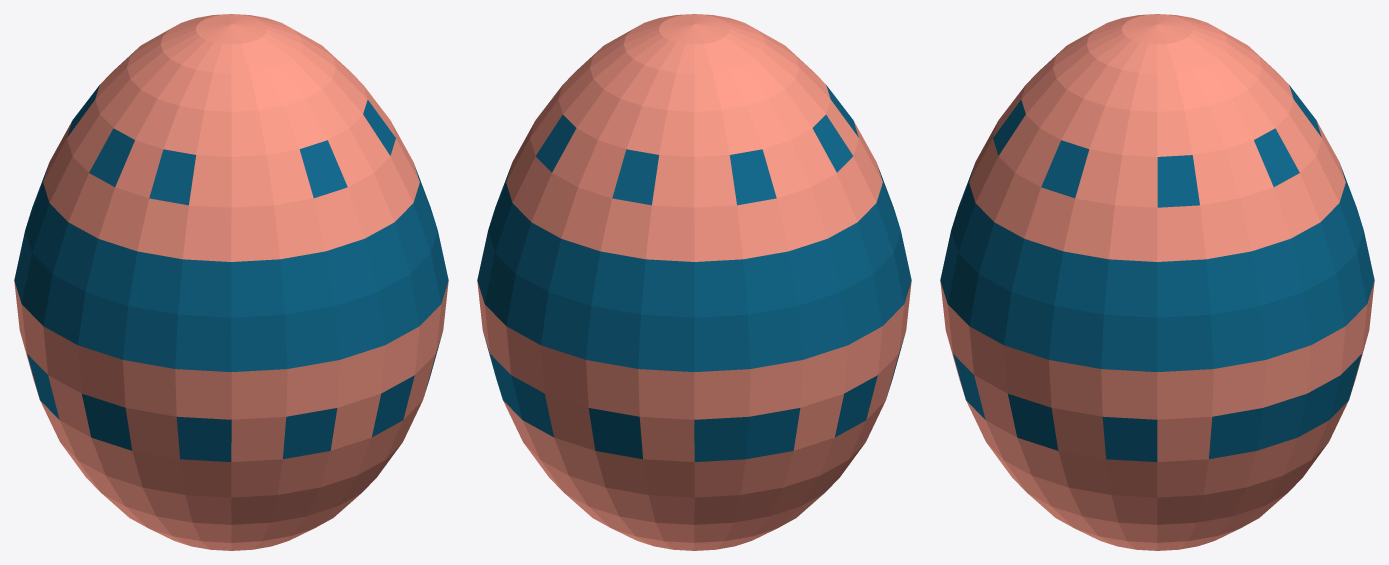
The model's file is Egg_seashell.obj.
The picture shows the model from 3 angles, left to right: view 1: azimuth 30°, elevation 25°; view 2: azimuth 150°, elevation 25°; view 3: azimuth 270°, elevation 25°; orthographic projection.
Visible parts, largest first — view 1: Egg_seashell; view 2: Egg_seashell; view 3: Egg_seashell.
Boxes of the visible parts, <box> form: Egg_seashell: <box>14,14,448,550</box>; Egg_seashell: <box>477,14,911,550</box>; Egg_seashell: <box>940,14,1374,550</box>.
Bounding box in the file's own units: 0.28 × 0.364 × 0.28.
